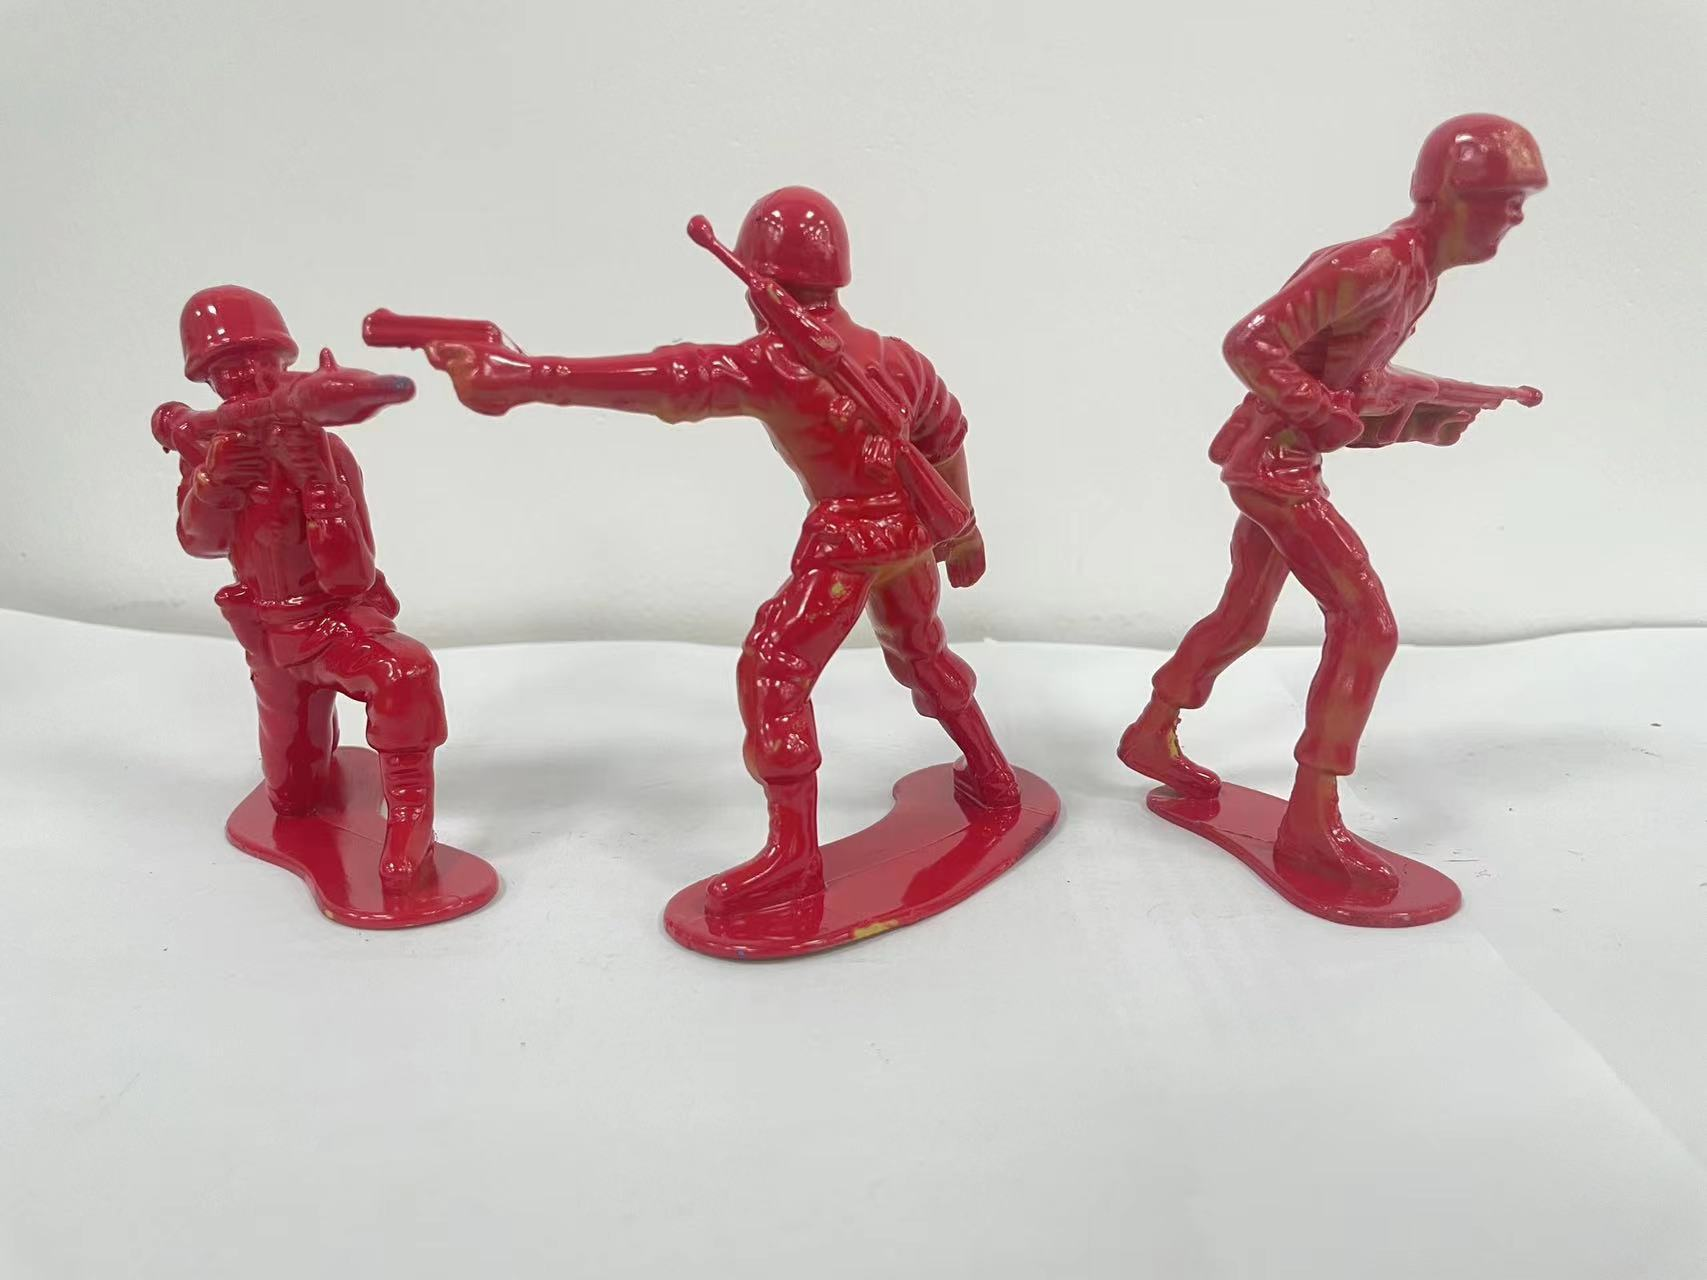red: (421, 163, 1035, 1053), (1137, 94, 1634, 1038), (118, 233, 520, 996)
